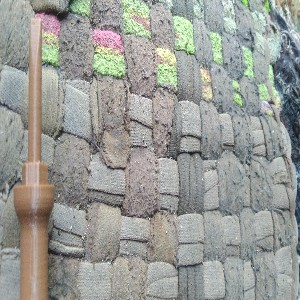obeng: (13, 17, 56, 300)
